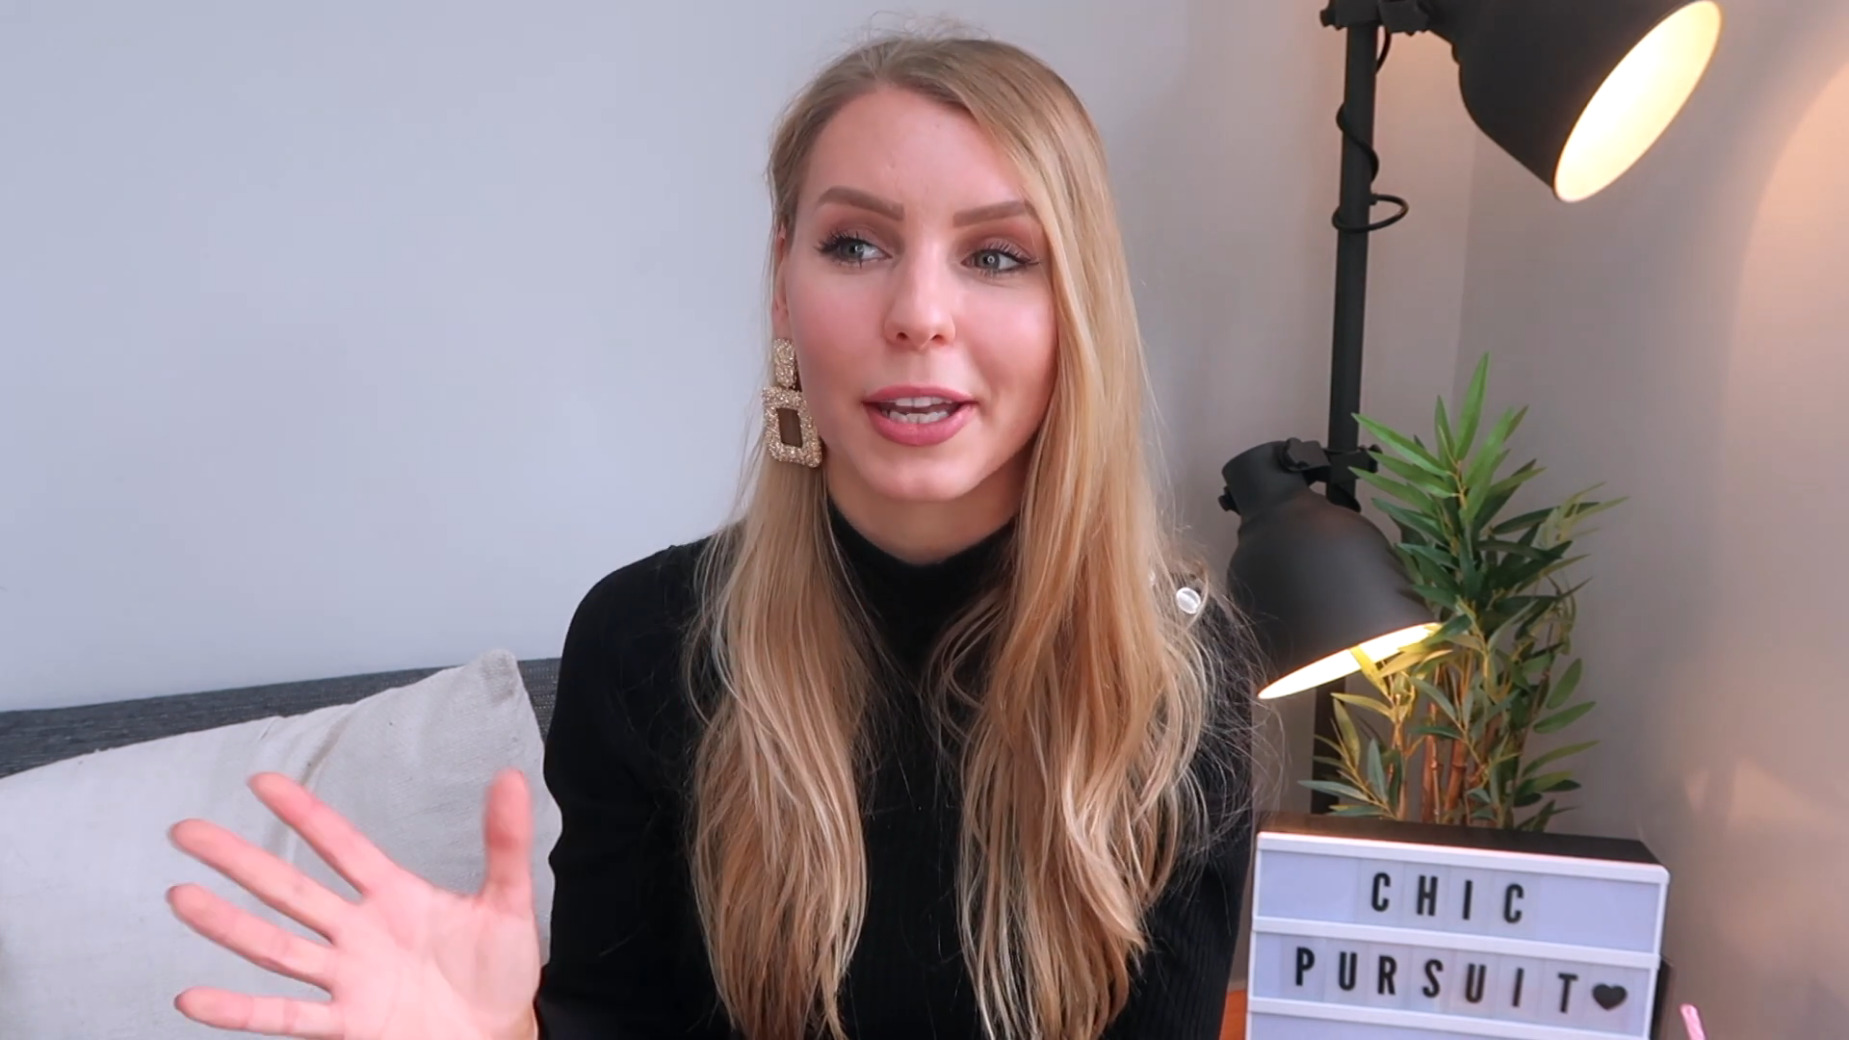hand: (168, 737, 550, 1035)
